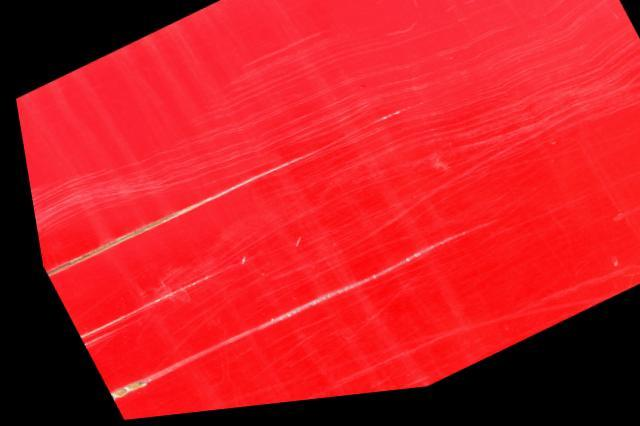scratch: (24, 0, 640, 421)
